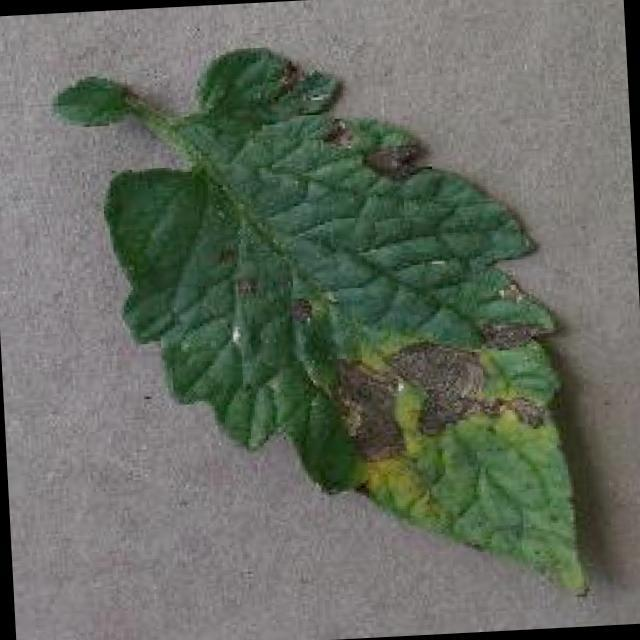Tomato Early blight leaf: (95, 39, 588, 621)
